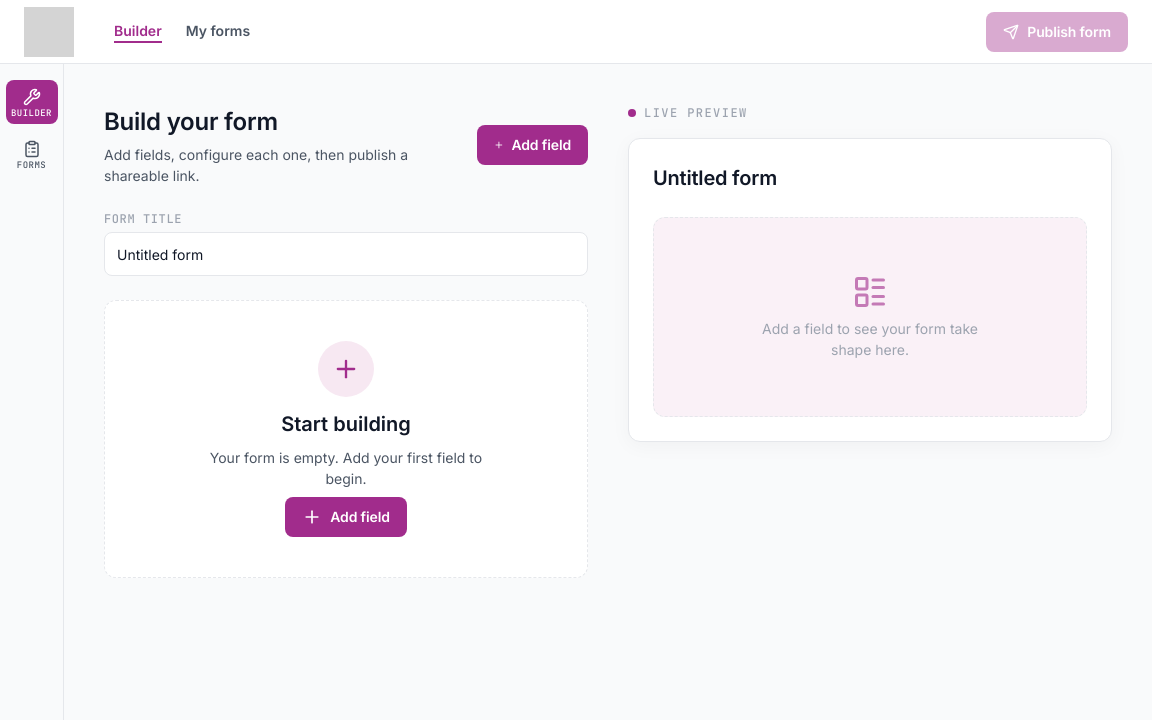
Scenario: FormBuilder › opens the picker then the settings modal for the chosen type
Click the button "Add field" in the row of "Build your form". click: (532, 145)
box: [477, 125, 588, 165]
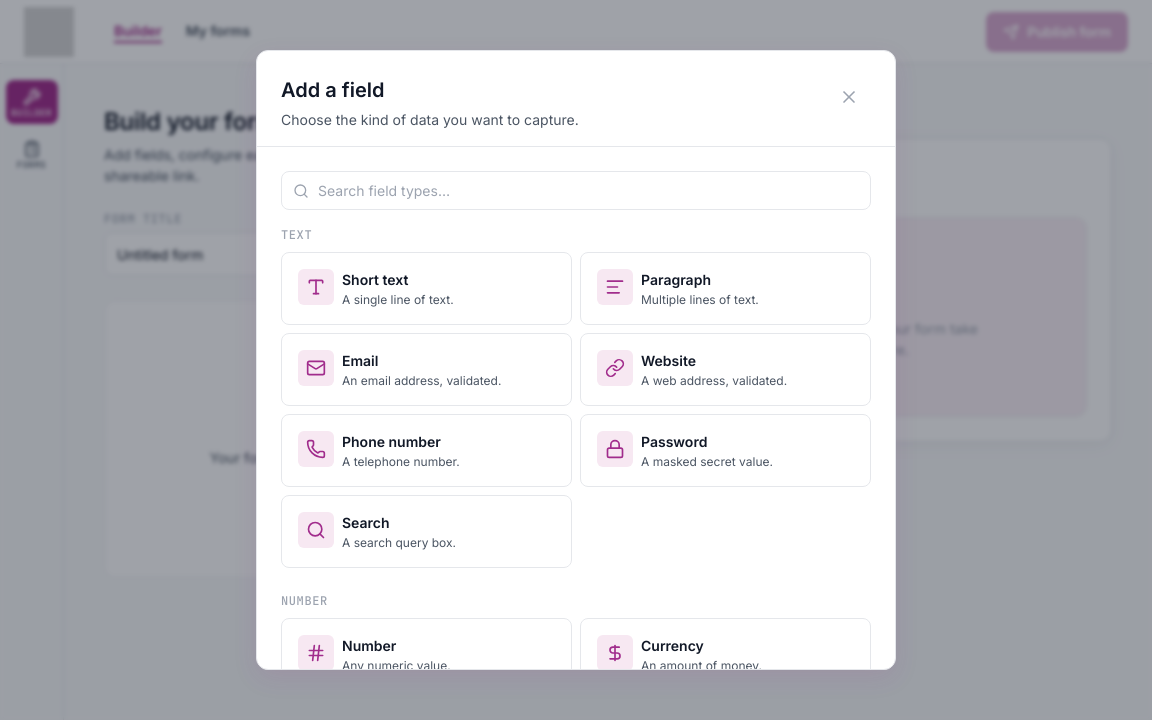
Expected: the dialog "Add a field" is shown, [256, 50, 896, 670]
Click the button "Phone number A telephone number.". click: (426, 451)
box: [281, 414, 572, 487]
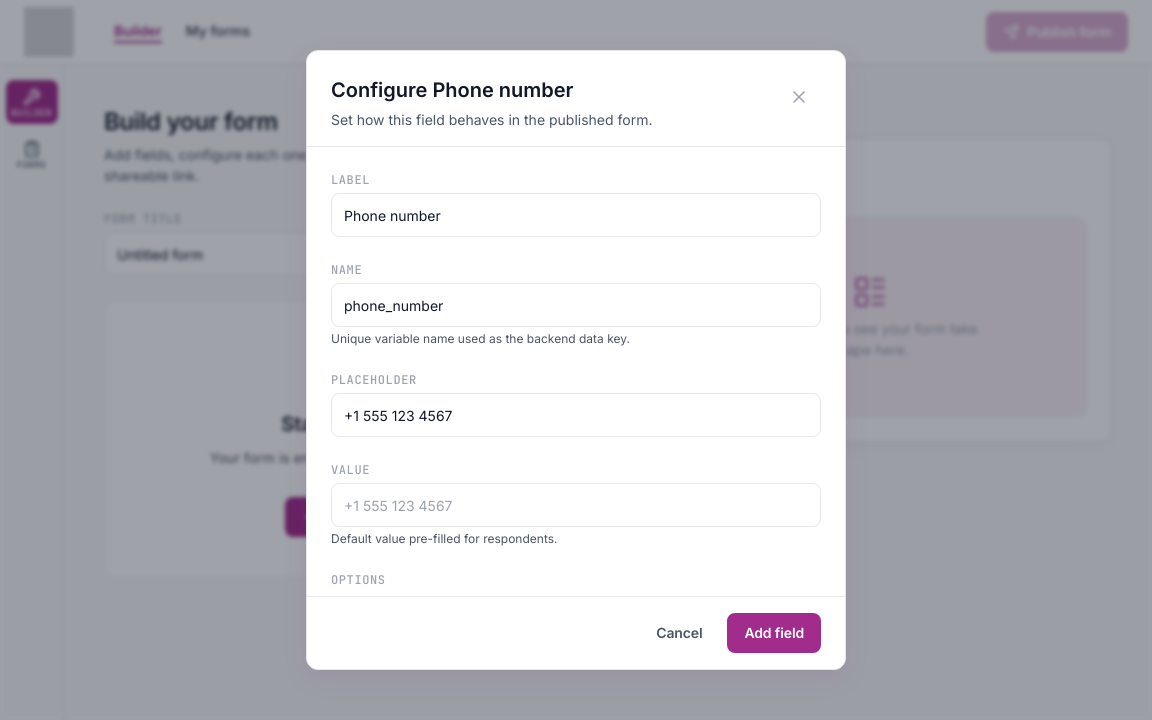
Expected: the dialog "Configure Phone number" is shown, [306, 50, 846, 670]
